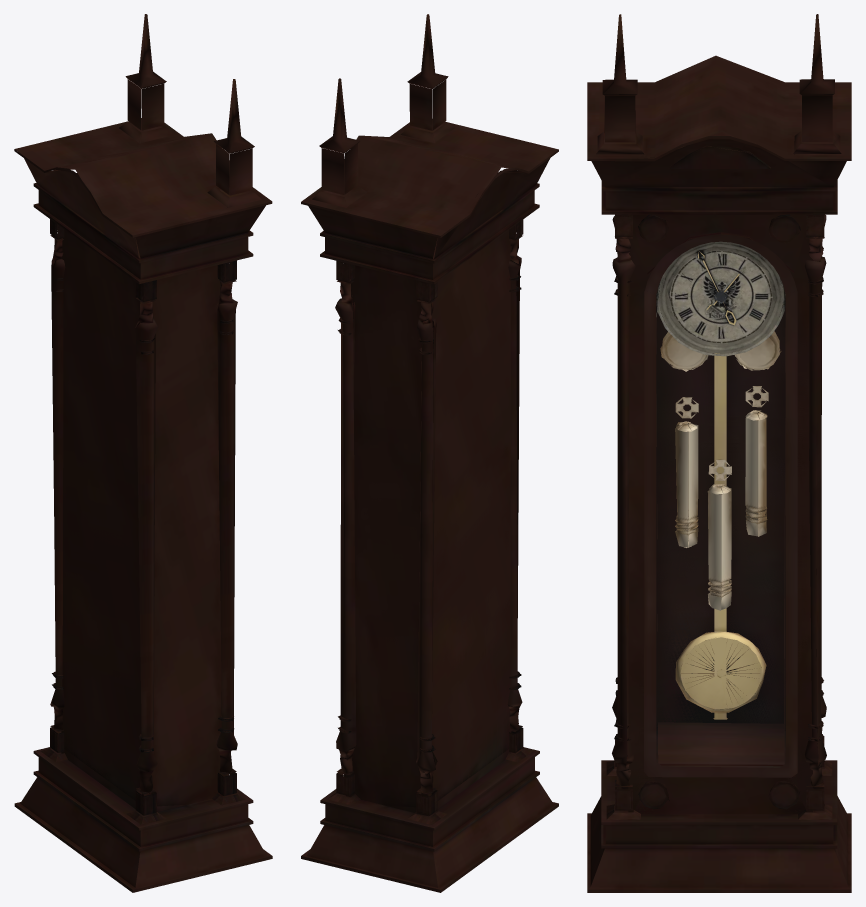
Rendered from obj_pendulum_clock.glb.
3 renders of one model, left to right at view 1: azimuth 30°, elevation 25°; view 2: azimuth 150°, elevation 25°; view 3: azimuth 270°, elevation 25°, orthographic. The views are drawn at different scales.
Parts seen in each view (by area): view 1: defaultMaterial; view 2: defaultMaterial; view 3: defaultMaterial.
Boxes of the visible parts, x1,y1,x2,y2 form: defaultMaterial: [14, 14, 272, 892]; defaultMaterial: [301, 14, 558, 892]; defaultMaterial: [587, 14, 851, 892].
Bounding box in the file's own units: 0.3765 × 2 × 0.5522.
Materials: 7 (6 with a texture image).
